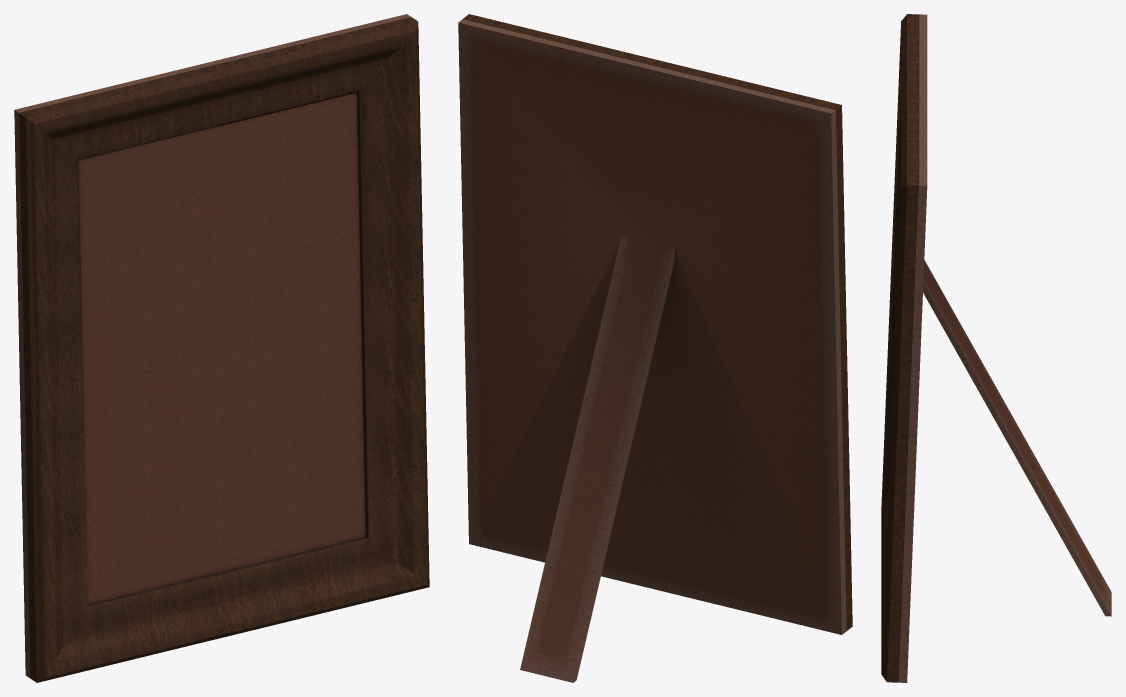
Rendered from frame.glb.
3 renders of one model, left to right at view 1: azimuth 30°, elevation 25°; view 2: azimuth 150°, elevation 25°; view 3: azimuth 270°, elevation 25°, orthographic. The views are drawn at different scales.
Parts seen in each view (by area): view 1: frame; view 2: frame; view 3: frame.
Boxes of the visible parts, x1,y1,x2,y2 form: frame: (14, 14, 429, 682); frame: (458, 14, 852, 682); frame: (881, 14, 1111, 682).
Size of the model in its own units: 2.36 by 3.25 by 1.34.
1 material, 1 textured.
